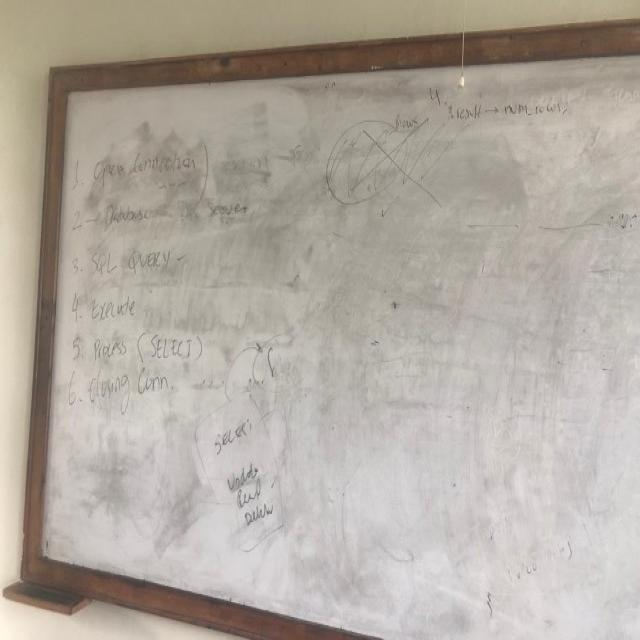White-board: (36, 29, 640, 640)
